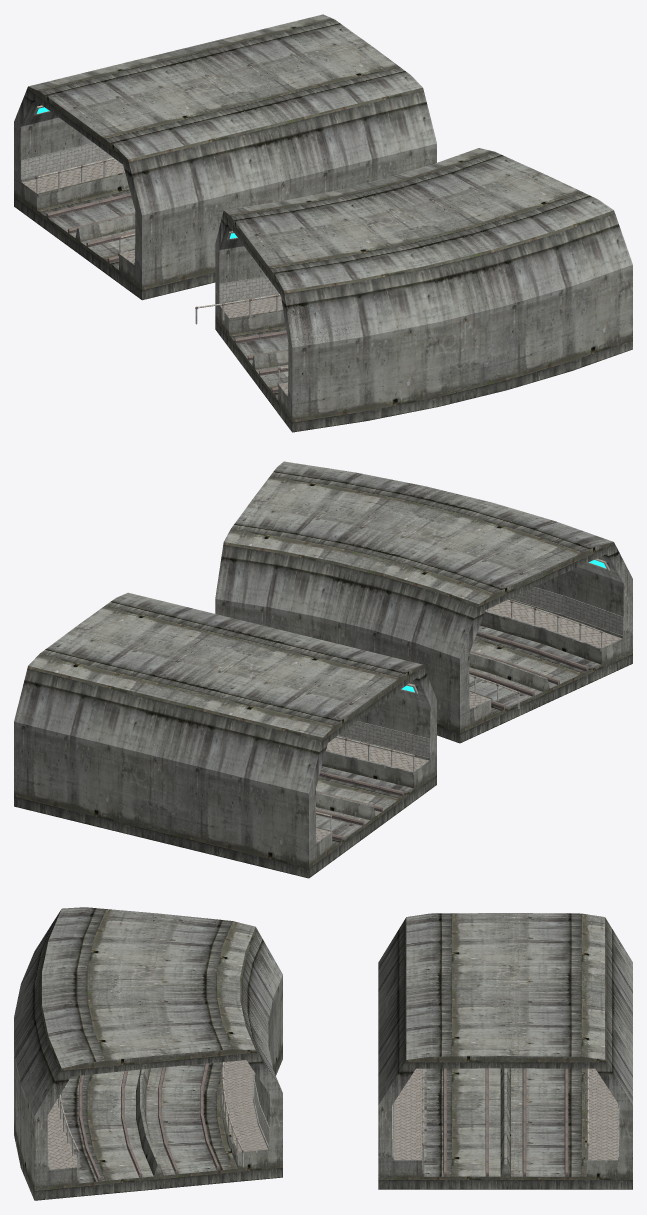
The model's file is MetroTunnels.FBX.
3 renders of one model, top to bottom at view 1: azimuth 30°, elevation 25°; view 2: azimuth 150°, elevation 25°; view 3: azimuth 270°, elevation 25°, orthographic.
Parts seen in each view (by area): view 1: Box016, Box003; view 2: Box003, Box016, Box021; view 3: Box016, Box003, Box010, Box011, Box024, Box023, Box021, Box022, Box009, Box008, Box025.
Boxes of the visible parts, x1=… form: Box016: x1=215, y1=148, x2=632, y2=432; Box003: x1=14, y1=14, x2=436, y2=300; Box003: x1=14, y1=592, x2=436, y2=878; Box016: x1=215, y1=461, x2=632, y2=743; Box021: x1=476, y1=631, x2=588, y2=671; Box016: x1=14, y1=907, x2=282, y2=1200; Box003: x1=378, y1=913, x2=632, y2=1189; Box010: x1=522, y1=1068, x2=526, y2=1176; Box011: x1=564, y1=1068, x2=568, y2=1176; Box024: x1=200, y1=1063, x2=219, y2=1170; Box023: x1=158, y1=1067, x2=178, y2=1174; Box021: x1=79, y1=1075, x2=101, y2=1181; Box022: x1=121, y1=1071, x2=142, y2=1177; Box009: x1=485, y1=1068, x2=488, y2=1176; Box008: x1=443, y1=1068, x2=446, y2=1176; Box025: x1=222, y1=1062, x2=244, y2=1167.
Bounding box in the file's own units: 301 × 114 × 477.
